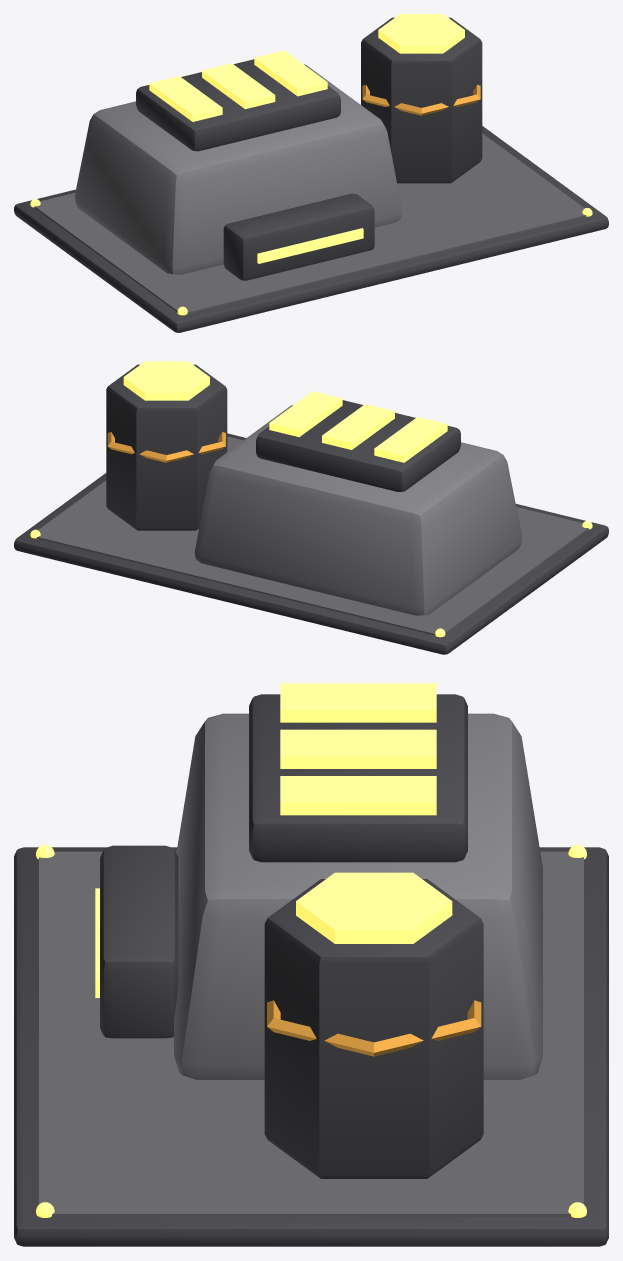
File: refinery_rob.glb
3 renders of one model, top to bottom at view 1: azimuth 30°, elevation 25°; view 2: azimuth 150°, elevation 25°; view 3: azimuth 270°, elevation 25°, orthographic. The views are drawn at different scales.
Visible parts, largest first — view 1: refinery_rob; view 2: refinery_rob; view 3: refinery_rob.
Boxes of the visible parts, x1,y1,x2,y2 form: refinery_rob: (14,14,608,332); refinery_rob: (14,361,608,654); refinery_rob: (14,683,608,1246).
Bounding box in the file's own units: 2.9 × 0.95 × 1.9.
